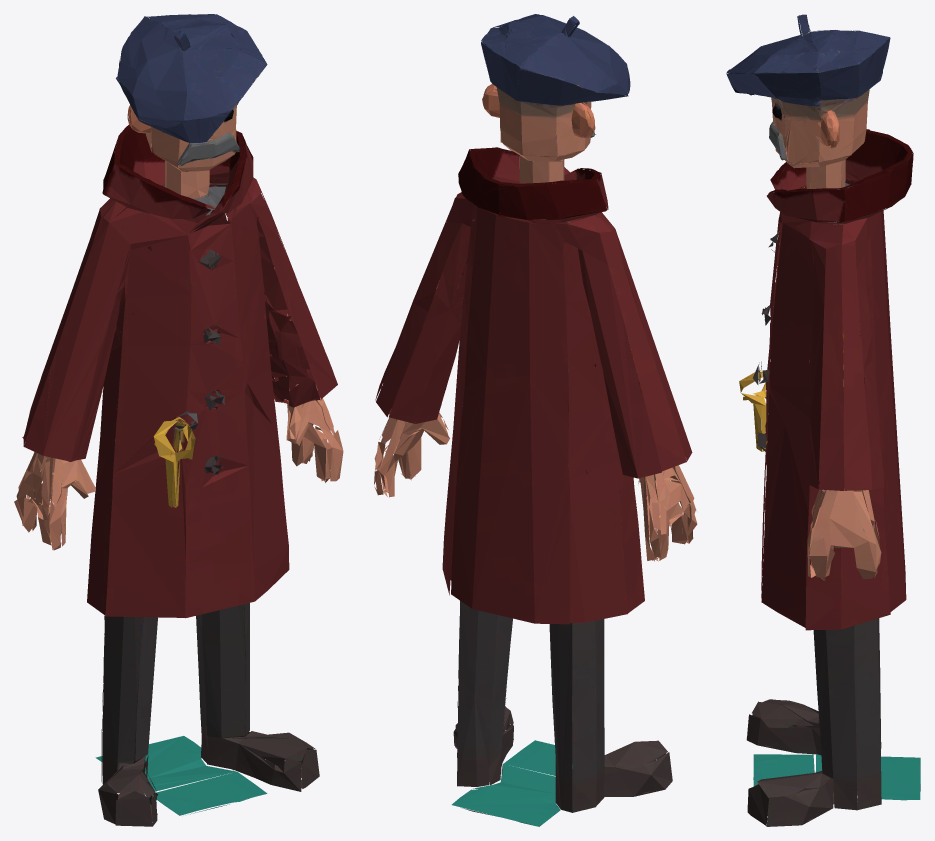
Rendered from habitant.glb.
3 renders of one model, left to right at view 1: azimuth 30°, elevation 25°; view 2: azimuth 150°, elevation 25°; view 3: azimuth 270°, elevation 25°, orthographic.
Parts seen in each view (by area): view 1: world; view 2: world; view 3: world.
Boxes of the visible parts, bbox=[...] form: world: bbox=[14, 14, 343, 826]; world: bbox=[374, 14, 697, 826]; world: bbox=[726, 14, 920, 826].
Size of the model in its own units: 0.423 by 0.999 by 0.2326.
1 material, 1 textured.
